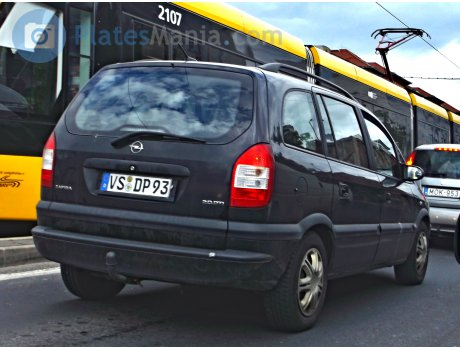License Plates: (110, 175, 171, 195)
